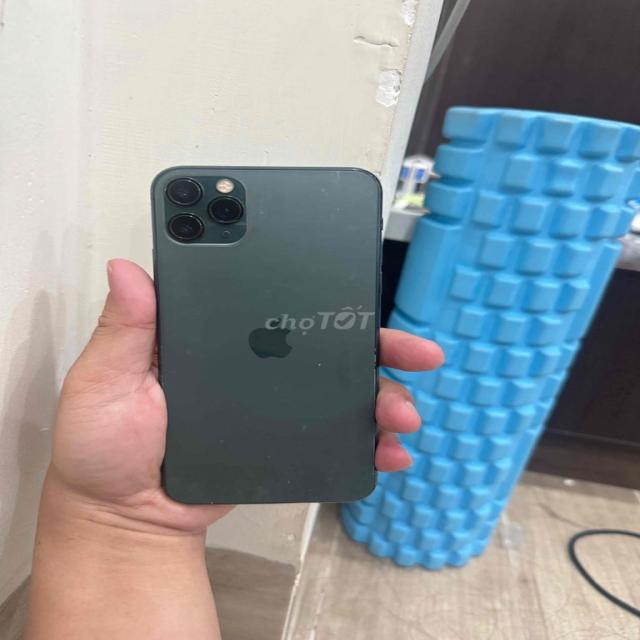gen_11: (138, 159, 412, 530)
